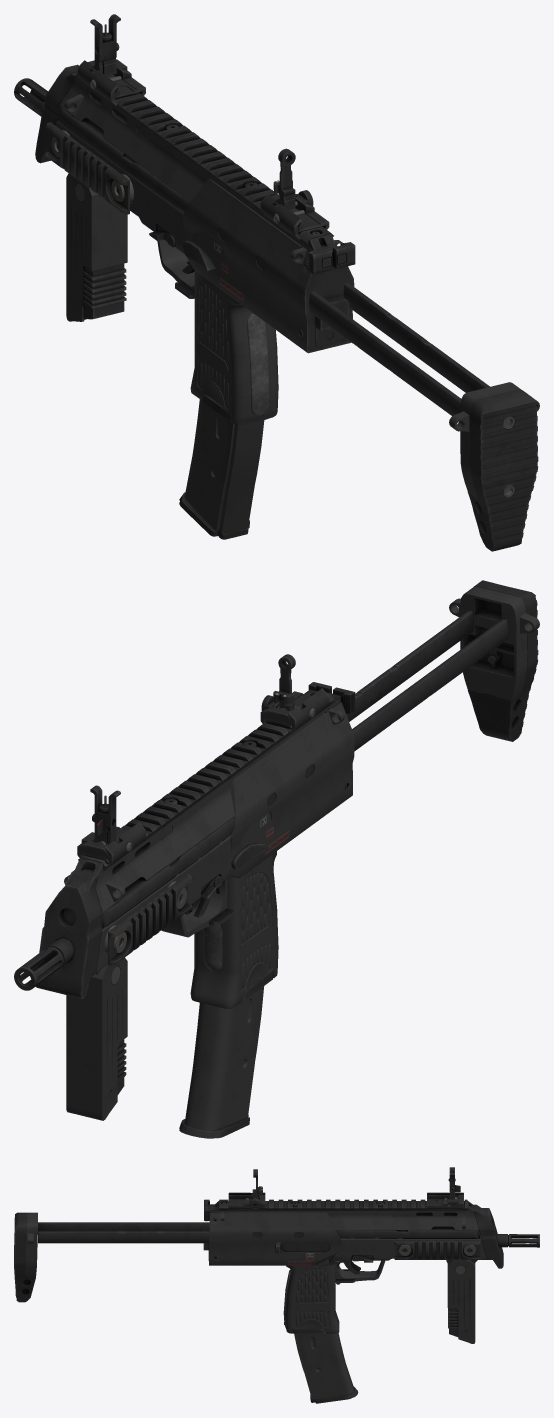
3 renders of one model, top to bottom at view 1: azimuth 30°, elevation 25°; view 2: azimuth 150°, elevation 25°; view 3: azimuth 270°, elevation 25°, orthographic. The views are drawn at different scales.
Visible parts, largest first — view 1: Weapon casing, Buttstock, Magazine, Folding handle, Bar for firearm sight, Bar for front sight, Front sight, Firearm sight; view 2: Weapon casing, Buttstock, Magazine, Folding handle, Bar for firearm sight, Bar for front sight, Front sight, Firearm sight; view 3: Weapon casing, Buttstock, Magazine, Folding handle, Bar for firearm sight, Bar for front sight.
Part boxes in pixels (x1,y1,x2,y2): Weapon casing: (14, 64, 355, 424); Buttstock: (309, 283, 539, 551); Magazine: (179, 394, 264, 539); Folding handle: (66, 173, 127, 321); Bar for firearm sight: (260, 190, 329, 239); Bar for front sight: (77, 59, 145, 105); Front sight: (90, 14, 120, 75); Firearm sight: (273, 148, 295, 210); Weapon casing: (14, 682, 355, 1009); Buttstock: (346, 580, 539, 751); Magazine: (179, 971, 272, 1138); Folding handle: (66, 957, 127, 1120); Bar for firearm sight: (260, 688, 329, 733); Bar for front sight: (77, 822, 145, 867); Front sight: (90, 785, 120, 845); Firearm sight: (273, 654, 295, 711); Weapon casing: (203, 1199, 539, 1333); Buttstock: (14, 1212, 209, 1302); Magazine: (292, 1328, 358, 1403); Folding handle: (447, 1260, 475, 1343); Bar for firearm sight: (228, 1192, 265, 1210); Bar for front sight: (427, 1192, 463, 1210).
Size of the model in its own units: 6.2 by 29.41 by 61.02.
